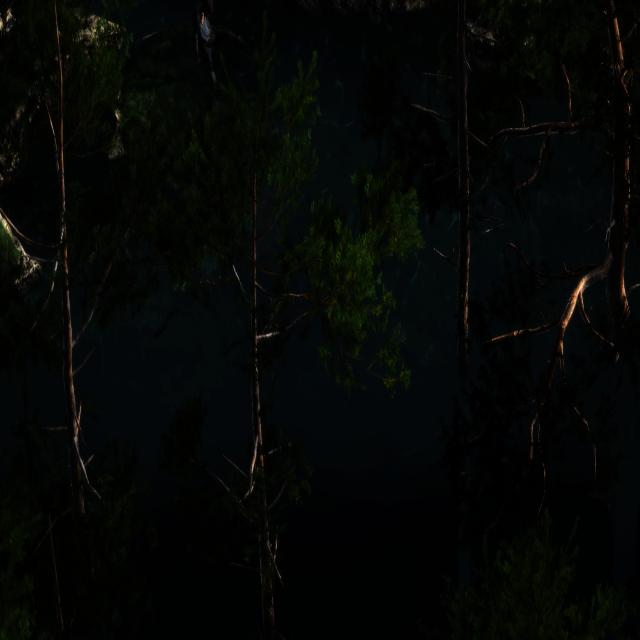Human: (191, 0, 256, 101)
